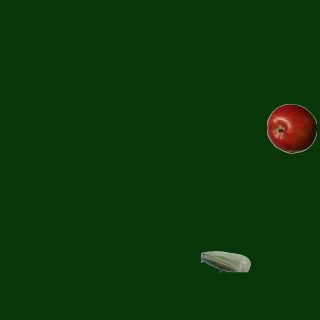Apple Braeburn: (266, 103, 316, 153)
Corn Husk: (200, 236, 250, 286)
